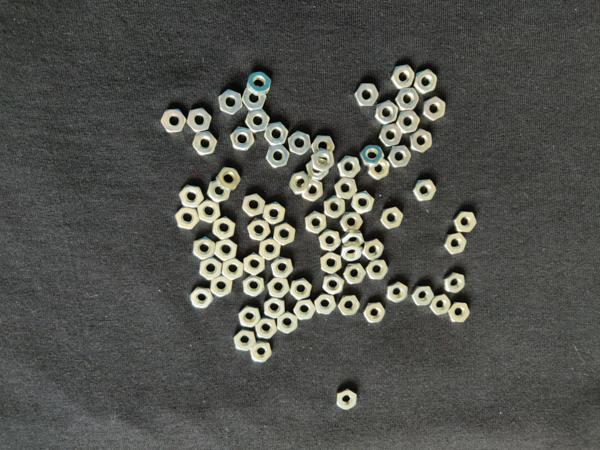nut: (187, 108, 213, 133), (161, 109, 188, 133), (391, 64, 416, 89), (219, 89, 243, 115), (230, 127, 256, 151), (264, 122, 290, 146), (414, 70, 438, 95), (375, 100, 399, 125), (193, 131, 217, 156), (175, 206, 200, 230), (245, 109, 271, 132), (216, 167, 242, 190), (422, 97, 446, 121), (288, 131, 312, 155), (180, 185, 204, 209), (395, 87, 420, 110), (267, 144, 290, 169), (355, 83, 379, 106), (397, 111, 421, 134), (410, 129, 433, 153), (247, 72, 271, 95), (207, 180, 231, 203), (198, 199, 221, 223), (352, 190, 375, 214), (212, 216, 235, 240), (379, 124, 402, 147), (388, 145, 411, 168), (312, 148, 335, 171), (243, 194, 266, 217), (263, 202, 286, 225), (214, 239, 237, 262), (338, 156, 362, 178), (290, 171, 312, 195), (194, 237, 216, 261), (190, 287, 214, 309), (242, 89, 267, 110), (453, 212, 478, 233), (443, 233, 468, 254), (361, 145, 384, 167), (306, 158, 329, 180), (302, 179, 324, 202), (335, 178, 358, 200), (248, 219, 271, 241), (274, 223, 296, 246), (259, 238, 281, 261), (200, 257, 222, 280), (243, 253, 265, 276), (319, 229, 342, 251), (340, 242, 363, 264), (344, 263, 367, 285), (271, 257, 294, 279), (294, 299, 317, 321), (238, 306, 261, 328), (413, 180, 437, 201), (368, 158, 390, 180), (305, 212, 327, 234), (222, 258, 244, 280), (323, 273, 345, 295), (290, 278, 312, 300), (243, 275, 265, 297), (234, 330, 256, 352), (312, 136, 335, 157), (325, 195, 346, 218), (210, 276, 233, 297), (321, 252, 342, 275), (267, 277, 290, 298), (411, 286, 435, 306), (381, 208, 403, 229), (444, 273, 466, 294), (449, 302, 471, 323), (387, 282, 408, 304), (364, 302, 386, 323), (315, 294, 337, 315), (264, 298, 286, 319), (256, 318, 278, 339), (251, 342, 273, 363), (338, 296, 361, 316), (340, 213, 364, 232), (337, 389, 358, 410), (362, 240, 384, 260), (278, 312, 298, 334), (342, 230, 366, 248), (430, 295, 451, 315), (366, 260, 388, 279)
